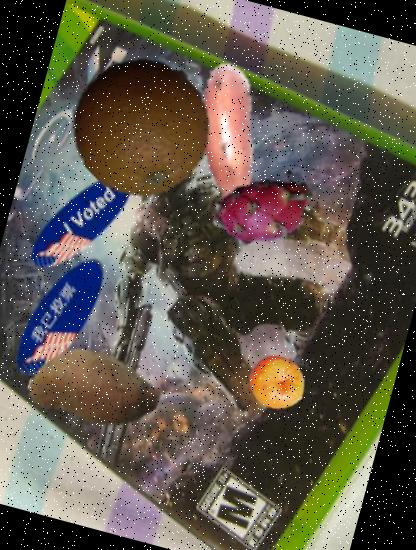Banana: (133, 46, 313, 226)
Mandarine: (242, 346, 314, 418)
Orange: (56, 39, 230, 212)
Pitahaya: (204, 152, 328, 276)
Potato: (15, 306, 178, 469)
